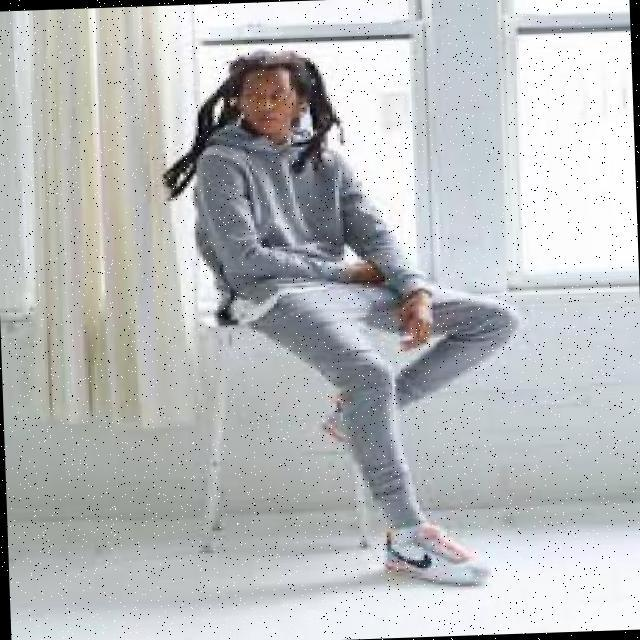Nike: (391, 542, 438, 569)
